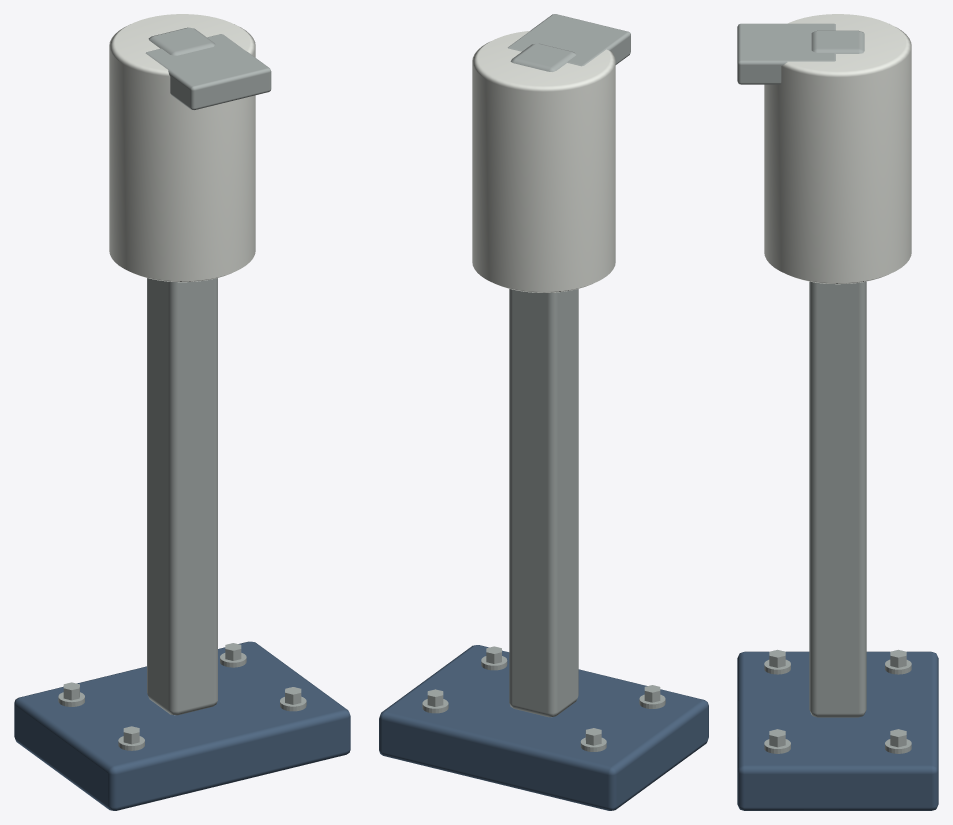
The model's file is spacecraft-parachute-packing-hall-spacecraft-parachute-8a51dcd3__32084.glb.
3 views of the same model, side by side, from view 1: azimuth 30°, elevation 25°; view 2: azimuth 150°, elevation 25°; view 3: azimuth 270°, elevation 25° (orthographic). The views are drawn at different scales.
Parts seen in each view (by area): view 1: spacecraft-parachute-packing-hall-padded-line-tension-post; view 2: spacecraft-parachute-packing-hall-padded-line-tension-post; view 3: spacecraft-parachute-packing-hall-padded-line-tension-post.
Boxes of the visible parts, x1,y1,x2,y2 form: spacecraft-parachute-packing-hall-padded-line-tension-post: [14, 14, 350, 810]; spacecraft-parachute-packing-hall-padded-line-tension-post: [379, 14, 708, 810]; spacecraft-parachute-packing-hall-padded-line-tension-post: [737, 14, 938, 810].
Bounding box in the file's own units: 0.42 × 1.18 × 0.3.
